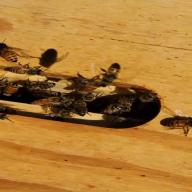Bee: (94, 60, 136, 89), (155, 105, 192, 135), (0, 38, 32, 66), (1, 76, 29, 100)
